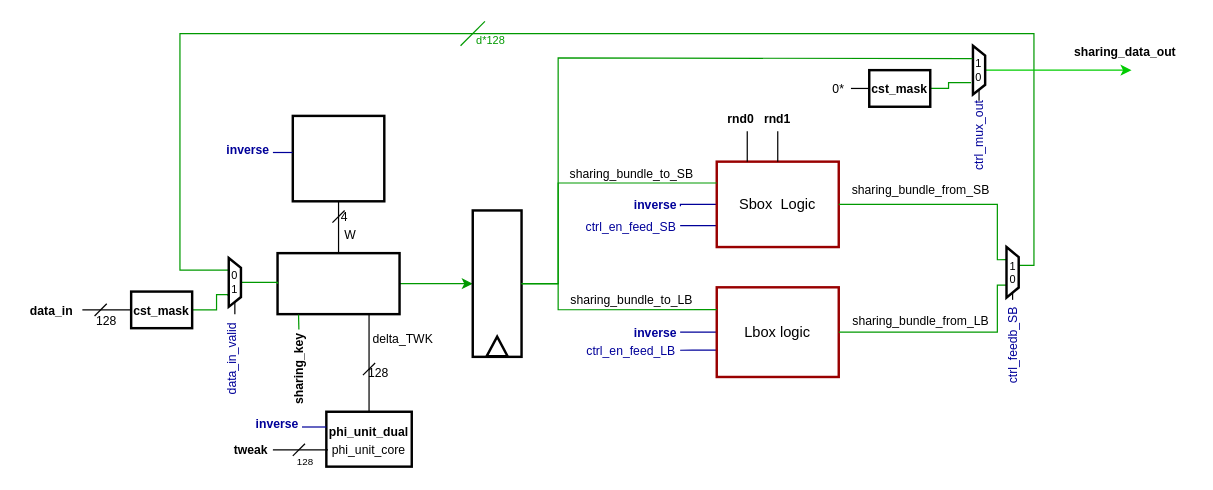
Image size: 1213x490. Some labels were removed from this diagram. The centre of each missing label's shape, as x and y in pixels:
MSKaddWTK addition_unit: point (338, 283)
Wsel_lfsr_dual Wsel_core: point (338, 158)
